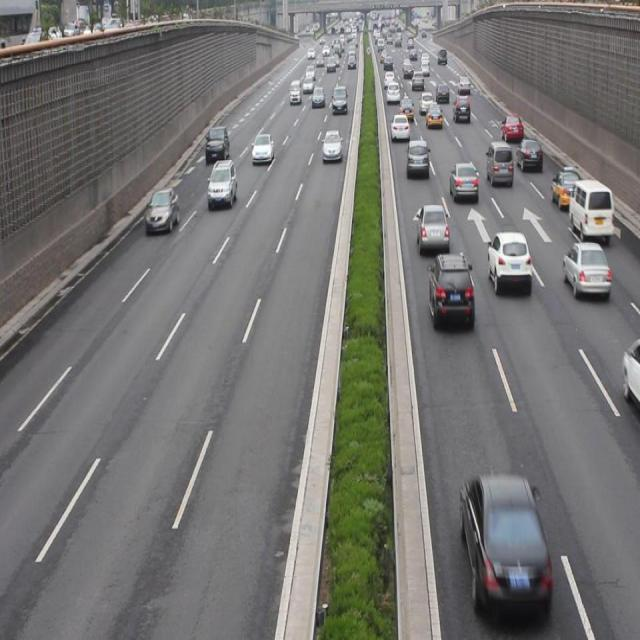car: (459, 472, 551, 609), (427, 251, 474, 331), (487, 230, 531, 294), (562, 241, 610, 297), (416, 202, 449, 254), (145, 187, 180, 234), (208, 158, 238, 208), (448, 160, 478, 204), (551, 167, 581, 211), (516, 134, 542, 174), (406, 137, 430, 177), (204, 124, 229, 162), (500, 112, 524, 144), (250, 132, 273, 164), (321, 127, 341, 162), (390, 112, 409, 143), (453, 95, 471, 123), (426, 101, 443, 129), (397, 95, 414, 122)
truck: (567, 178, 612, 238), (486, 140, 513, 187)
